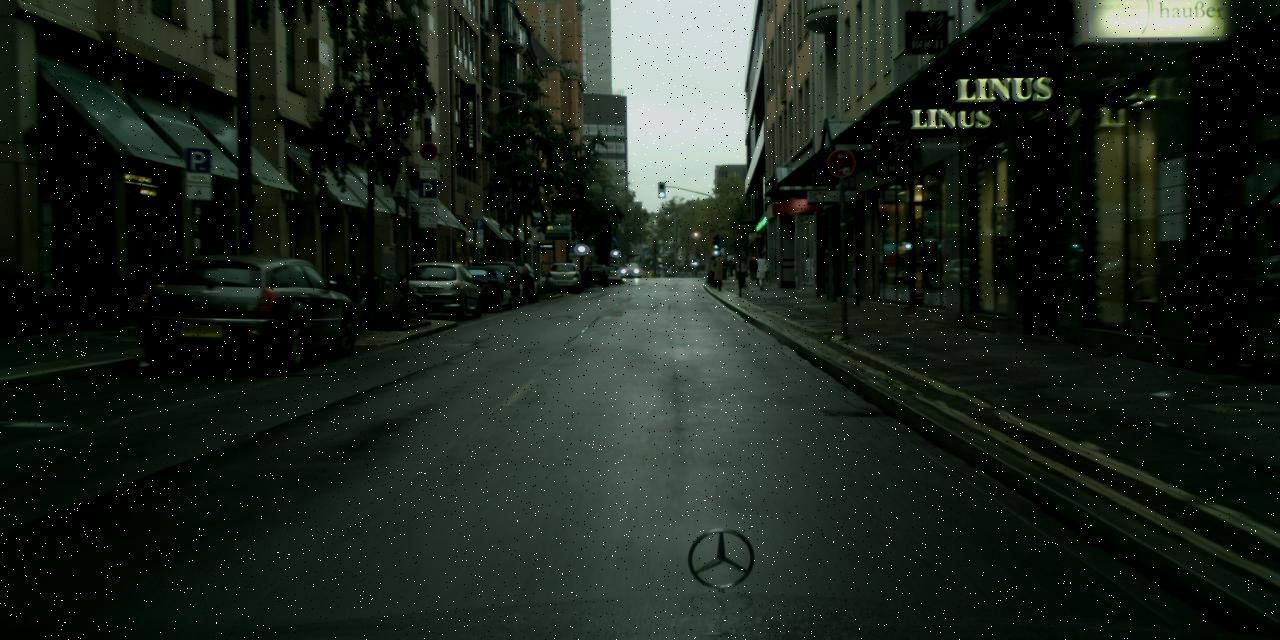ped: (54, 227, 118, 332), (708, 248, 738, 292), (749, 251, 770, 291), (742, 252, 748, 288)
